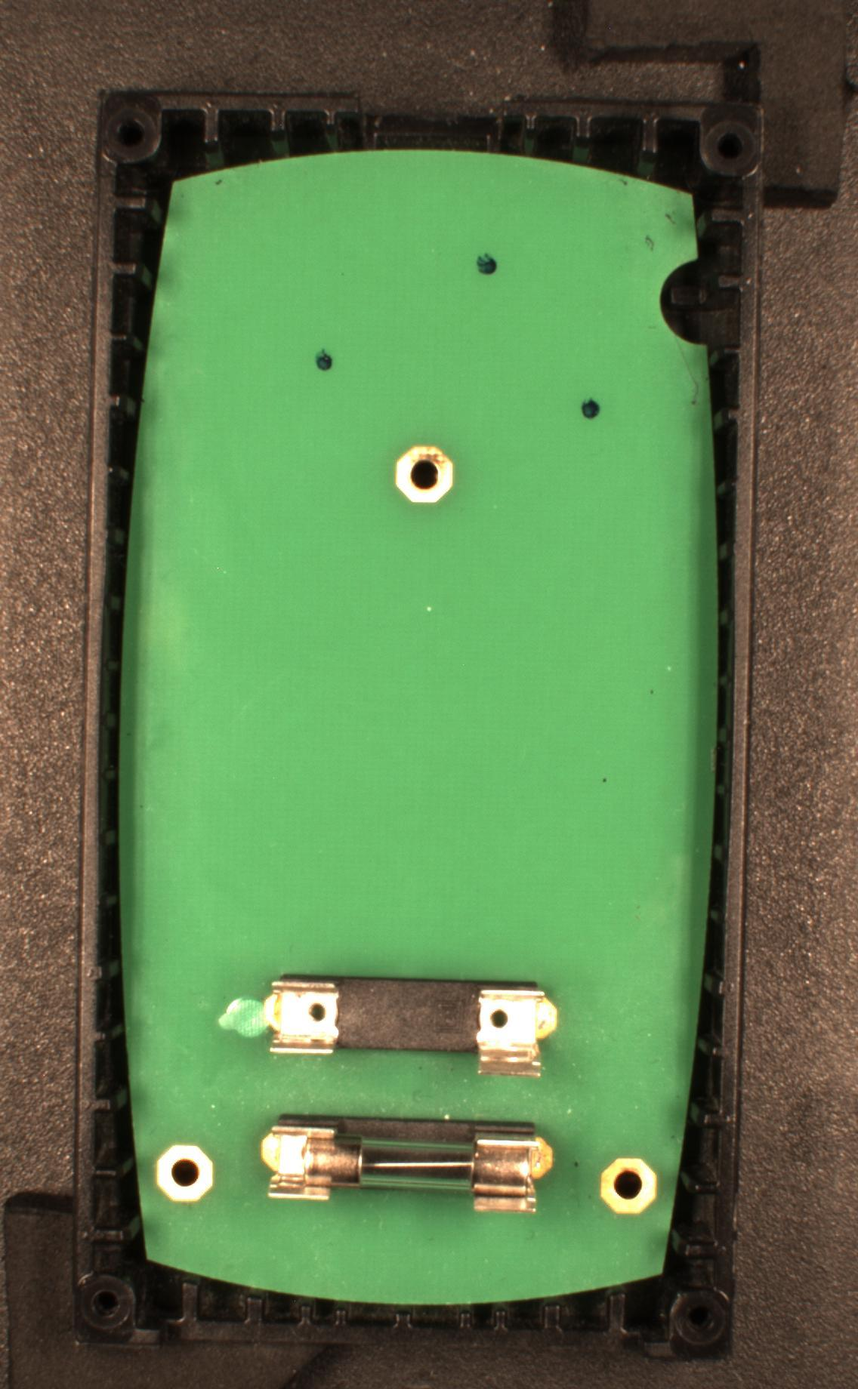Nepostojanje osiguraca: (260, 971, 560, 1080)
Tockasto Ostecenje: (473, 250, 499, 278), (577, 396, 602, 425), (313, 347, 339, 374)
